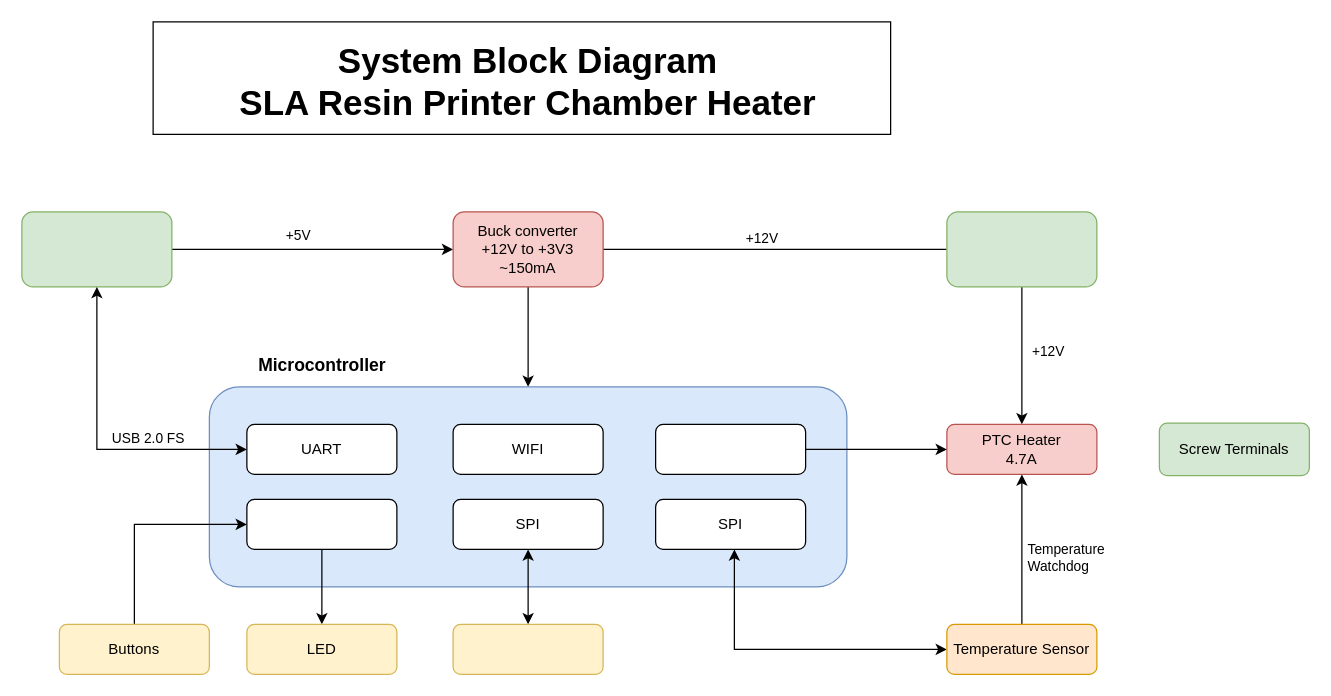
The diagram is 1331 pixels wide and 696 high, and some of its shapes have lost their labels. The centre of each missing label's shape, as x and y in pixels:
2.5mm Barrel Connector: the point at 1021,249
GPIO: the point at 321,523
OLED LCD: the point at 527,648
PWM: the point at 730,448
USB Type C Connector: the point at 96,249
